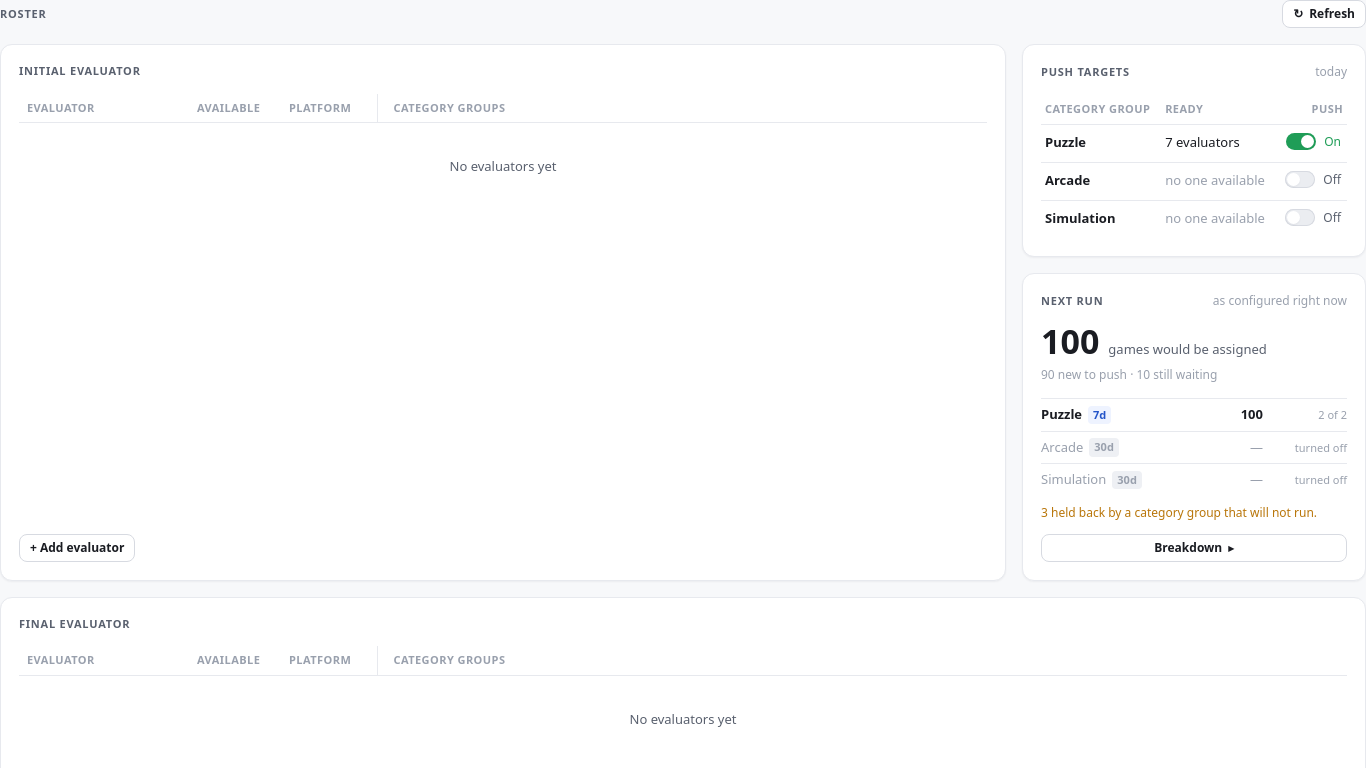
Test: AssignSetup next-run panel › unticking an evaluator re-splits their share onto the rest
Click the button "Breakdown ▸" at (1194, 548), box [1041,534,1347,562]
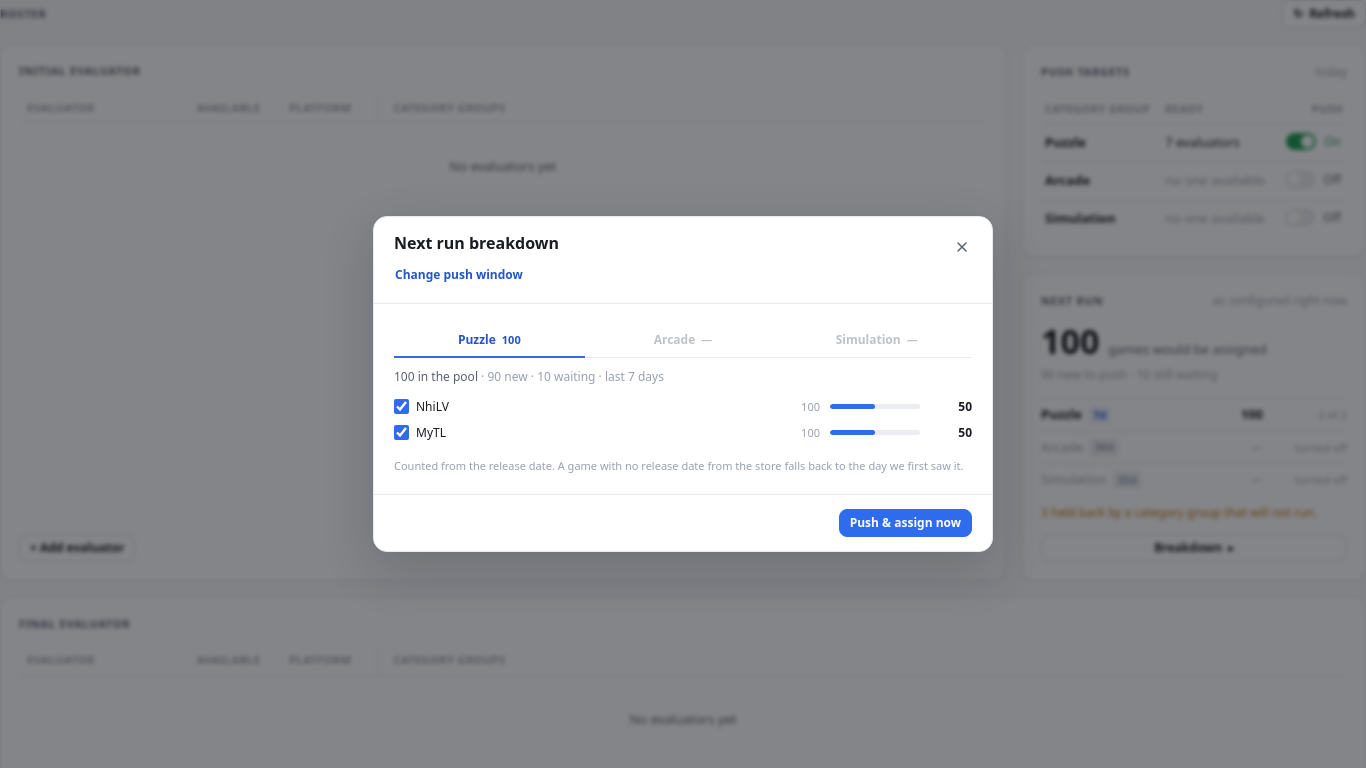
Click the checkbox named "include MyTL in Puzzle" at (402, 433), box [394,425,409,440]
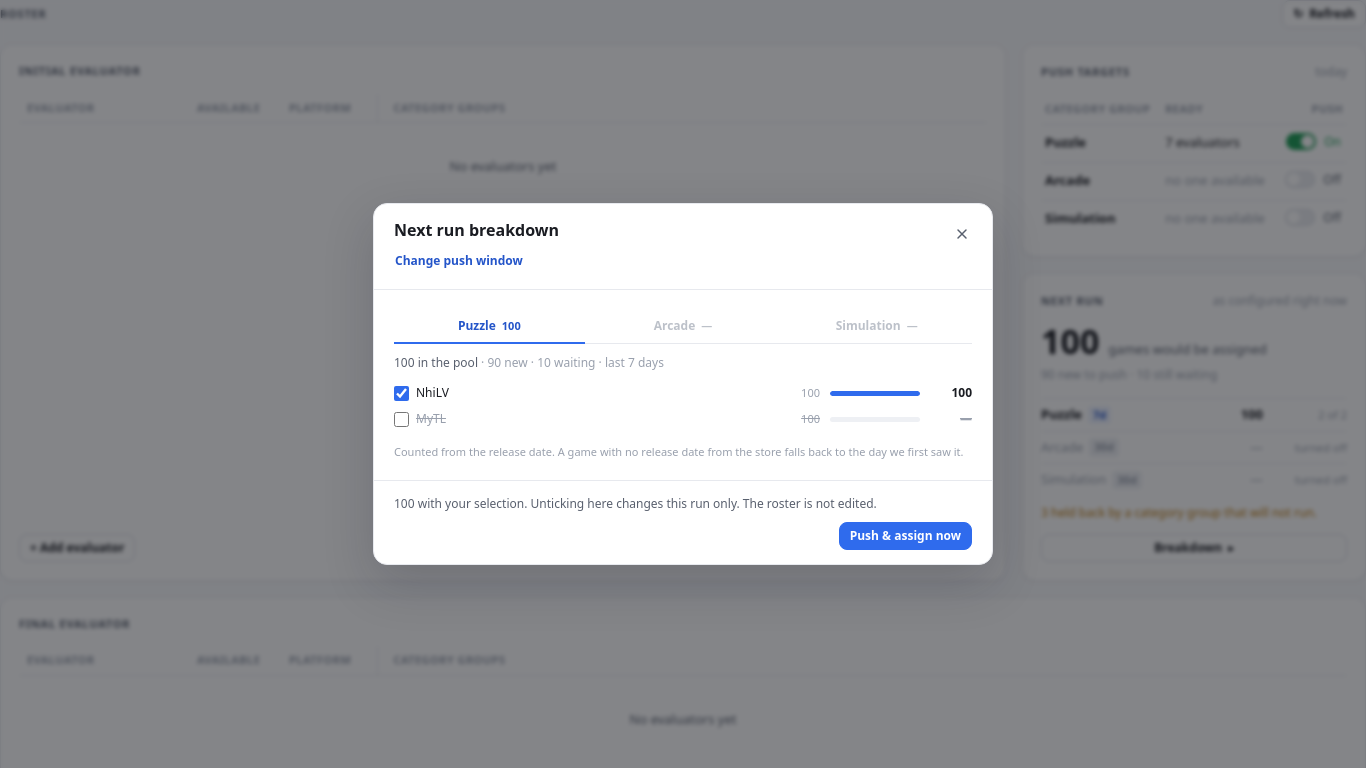
expect the tab "Puzzle 100" is shown: met, box [394,310,585,344]
expect the list item "NhiLV" shows "100": met, box [801,385,820,400]
expect the text "changes this run only" is shown: met, box [415,495,877,512]
